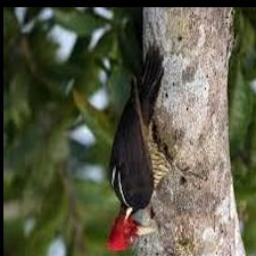Woodpecker: (106, 45, 204, 252)
